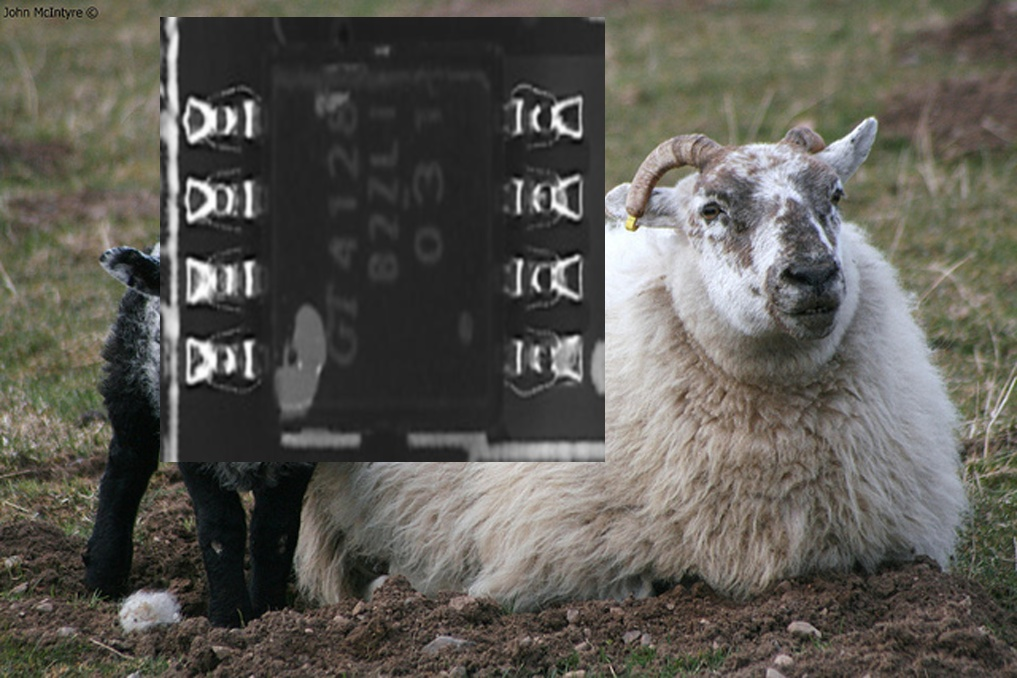PAD: (172, 57, 287, 403), (487, 65, 600, 402)
sheep: (297, 111, 966, 587), (84, 214, 349, 622)
